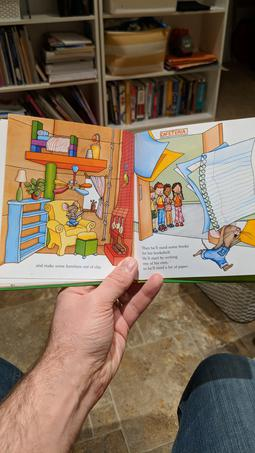text block: (136, 242, 197, 274), (34, 256, 105, 272)
